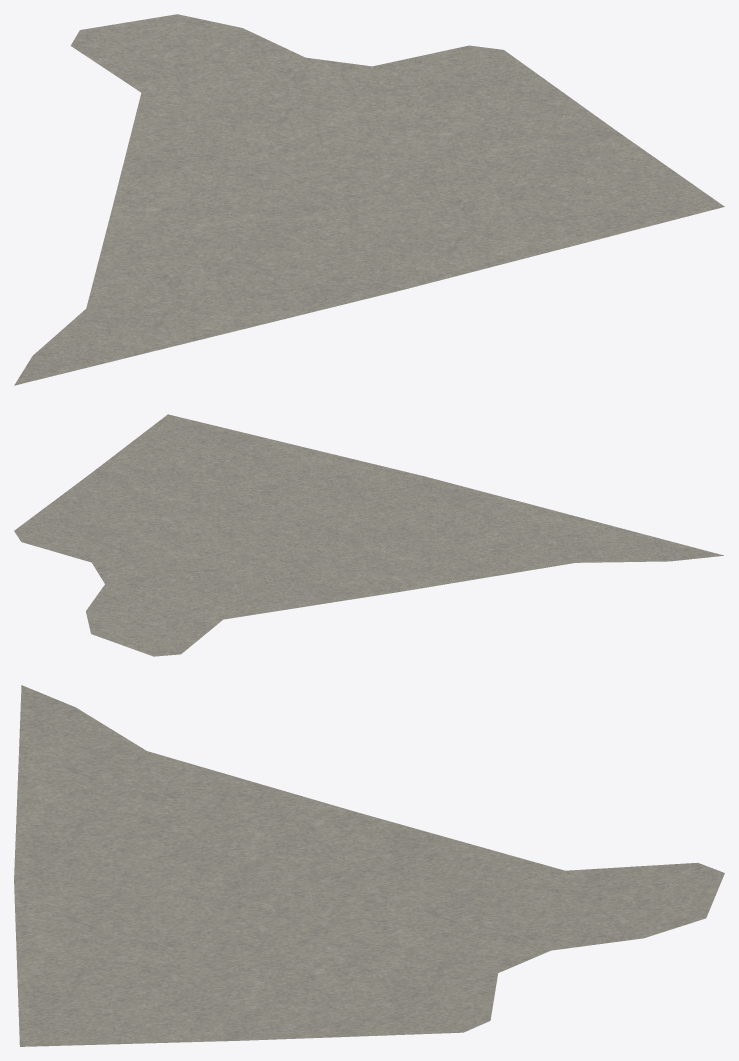
Rendered from path_10.glb.
3 views of the same model, one above another, from view 1: azimuth 30°, elevation 25°; view 2: azimuth 150°, elevation 25°; view 3: azimuth 270°, elevation 25° (orthographic). The views are drawn at different scales.
Visible parts, largest first — view 1: path_10.surface; view 2: path_10.surface; view 3: path_10.surface.
Part boxes in pixels (x1,y1,x2,y2): path_10.surface: (14,14,724,385); path_10.surface: (14,414,723,656); path_10.surface: (14,685,724,1046).
Bounding box in the file's own units: 4.84 × 0.1136 × 3.94.
1 material, 1 textured.
